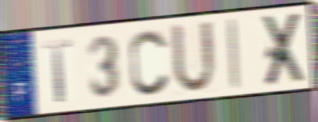3: (86, 33, 121, 101)
C: (128, 27, 172, 98)
I: (225, 17, 242, 93)
T: (41, 37, 74, 105)
U: (169, 19, 218, 97)
X: (261, 9, 307, 89)
